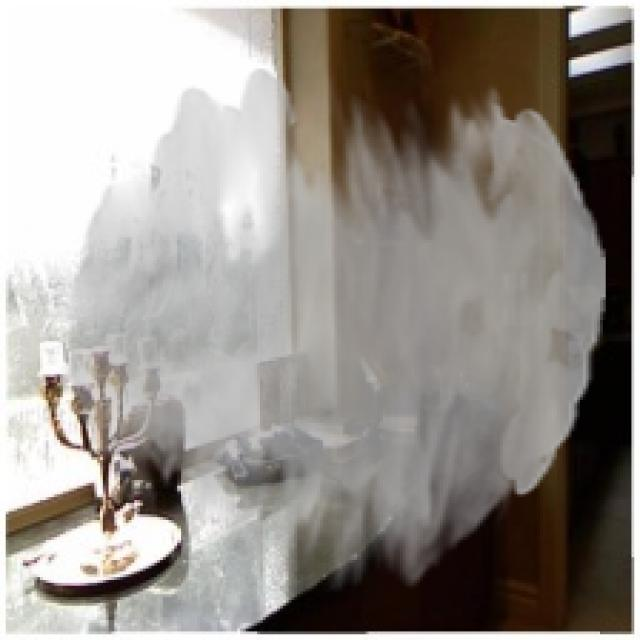smoke: (65, 69, 606, 592)
